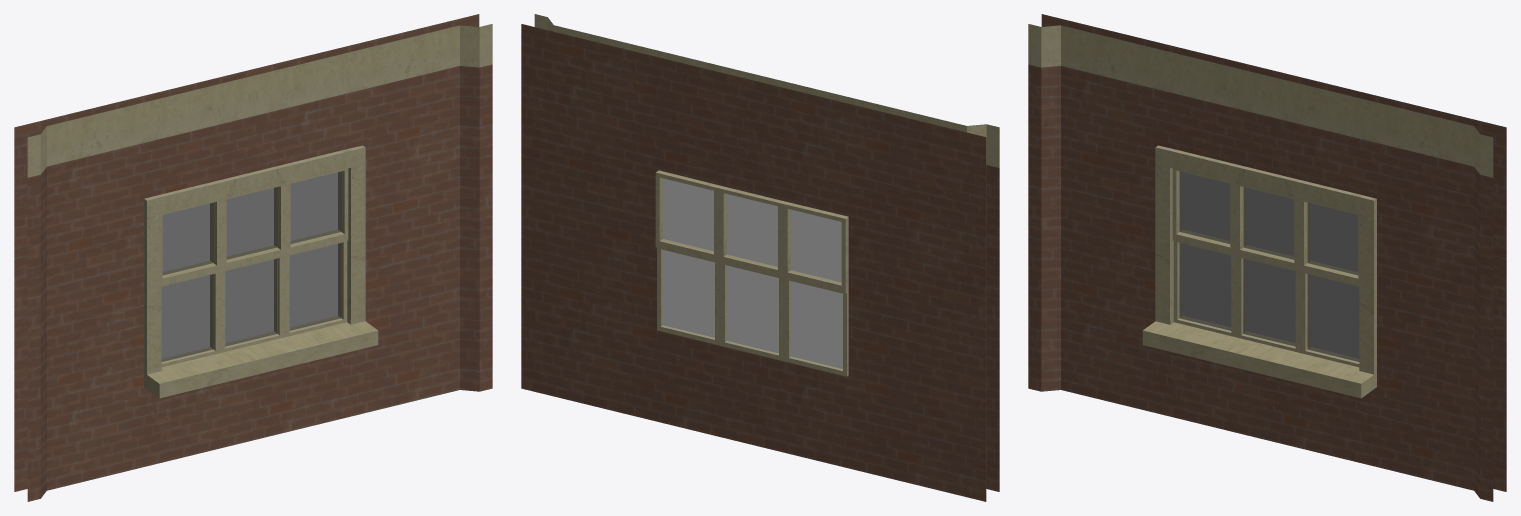
Rendered from brick_inset_window.glb.
The picture shows the model from 3 angles, left to right: view 1: azimuth 30°, elevation 25°; view 2: azimuth 150°, elevation 25°; view 3: azimuth 330°, elevation 25°; orthographic projection.
Visible parts, largest first — view 1: Brick_Inset_Window; view 2: Brick_Inset_Window; view 3: Brick_Inset_Window.
Part boxes in pixels (box(x1,y1,x2,y2)): Brick_Inset_Window: box(14, 14, 492, 501); Brick_Inset_Window: box(521, 14, 999, 501); Brick_Inset_Window: box(1028, 14, 1506, 501).
Size of the model in its own units: 4 by 3 by 0.3743.
Materials: 5 (3 with a texture image).
